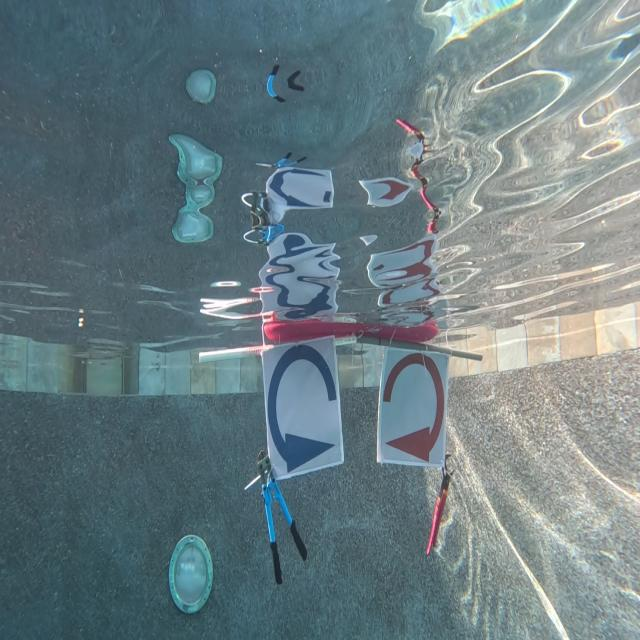blue_side: (264, 341, 341, 474)
red_side: (378, 344, 442, 461)
